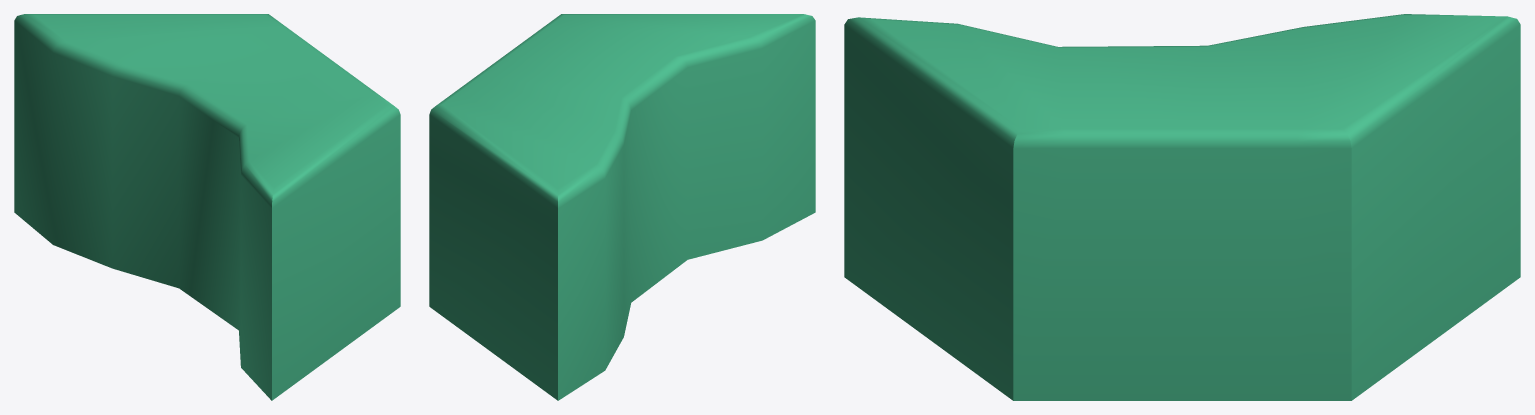
File: hex_forest_waterC_empty.glb
3 views of the same model, side by side, from view 1: azimuth 30°, elevation 25°; view 2: azimuth 150°, elevation 25°; view 3: azimuth 270°, elevation 25° (orthographic). The views are drawn at different scales.
Visible parts, largest first — view 1: hex_forest_waterC_empty; view 2: hex_forest_waterC_empty; view 3: hex_forest_waterC_empty.
Boxes of the visible parts, left/top/right/bottom form: hex_forest_waterC_empty: left=14, top=14, right=400, bottom=400; hex_forest_waterC_empty: left=429, top=14, right=815, bottom=400; hex_forest_waterC_empty: left=844, top=14, right=1520, bottom=400.
Size of the model in its own units: 1.02 by 1 by 2.31.
